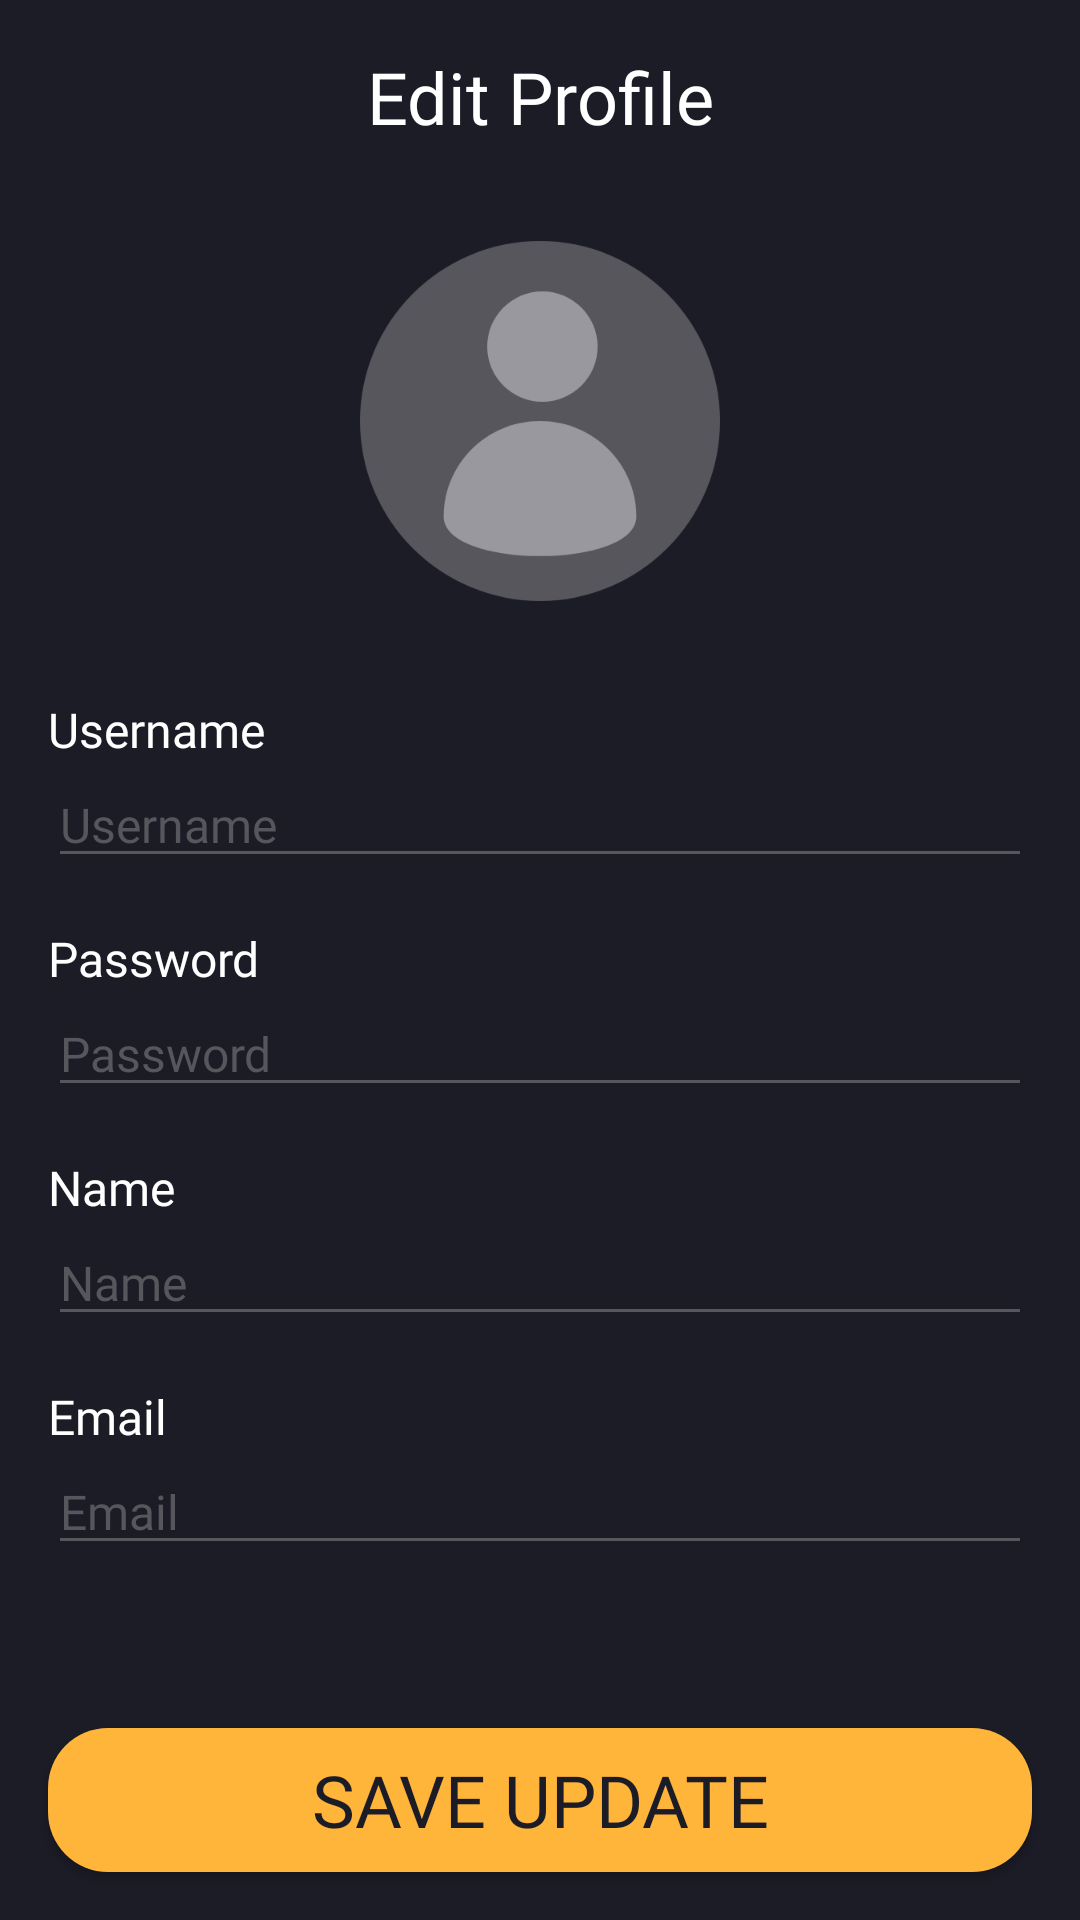

Icon bounding boxes for this 1080px x 1920px phone screenshot, format (x1, y1, x2, y2):
user prof: (360, 241, 720, 601)
